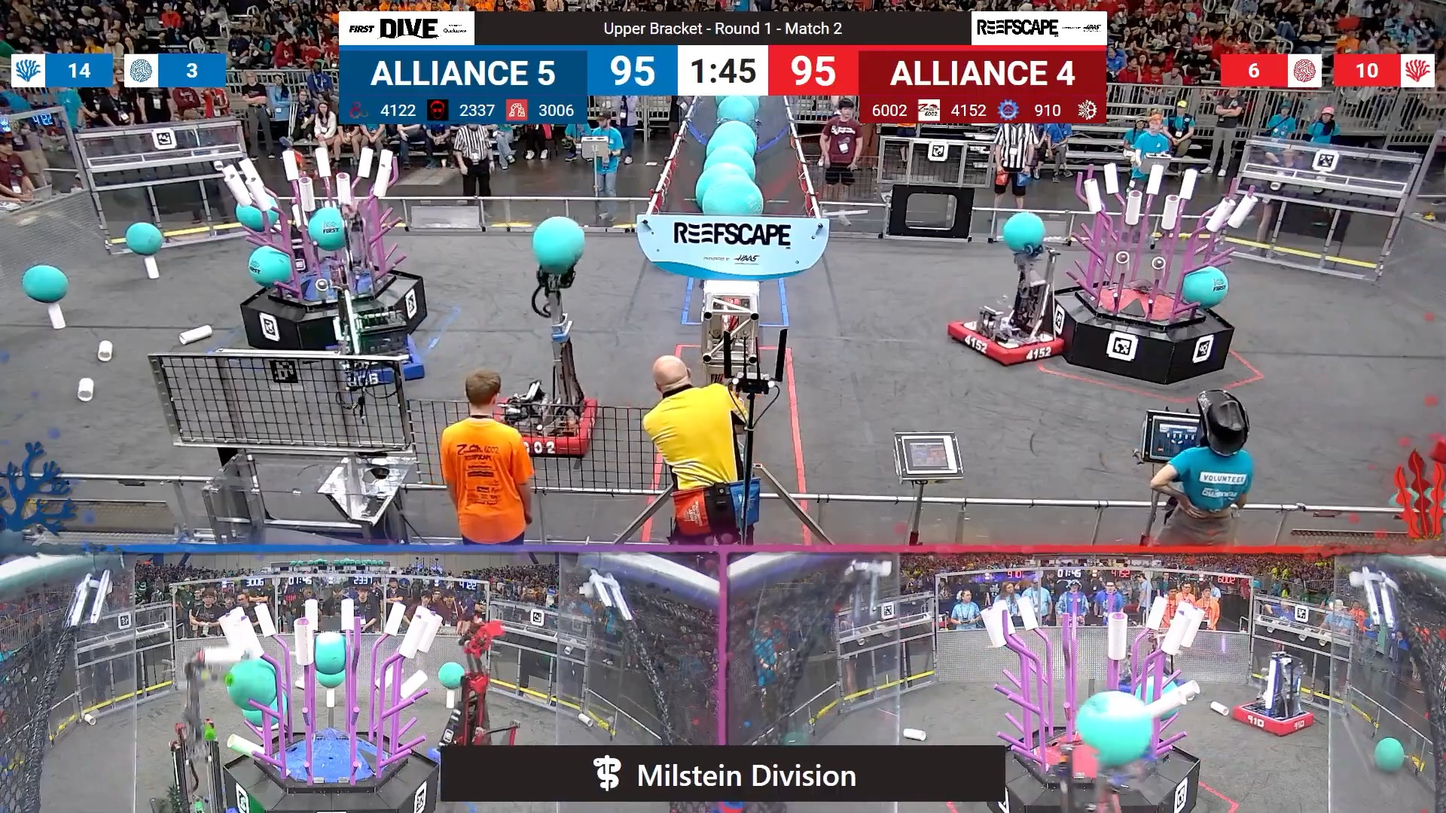bumpers: (486, 395, 609, 458), (944, 312, 1074, 368), (322, 336, 430, 387), (1225, 699, 1321, 738)
